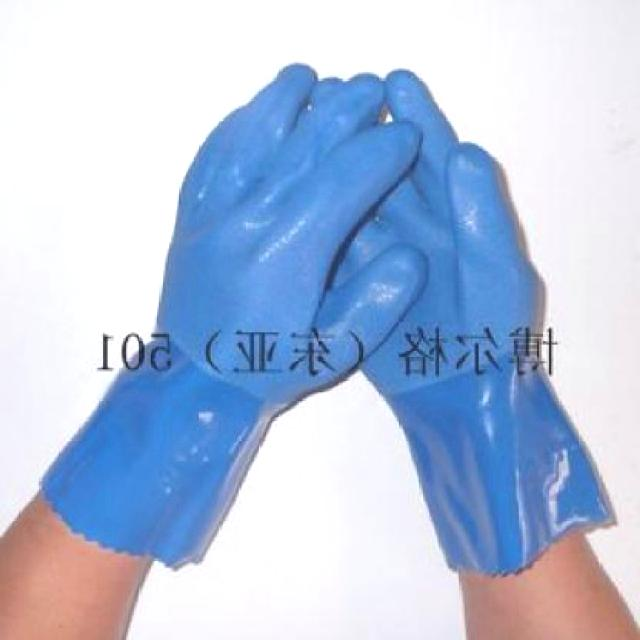hand_glove: (155, 64, 419, 393), (307, 70, 539, 421)
